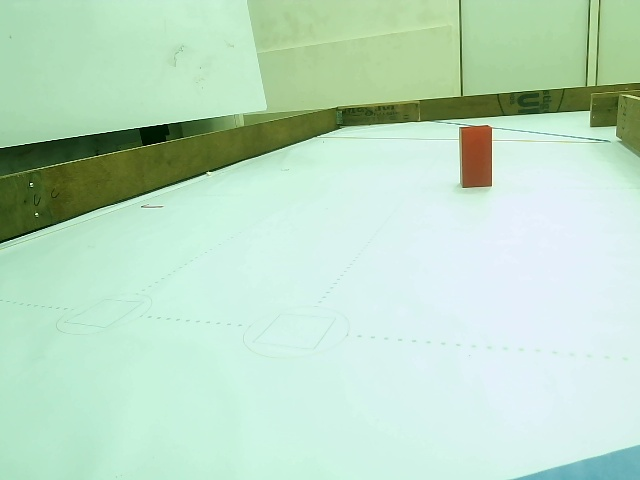red: (460, 129, 493, 186)
